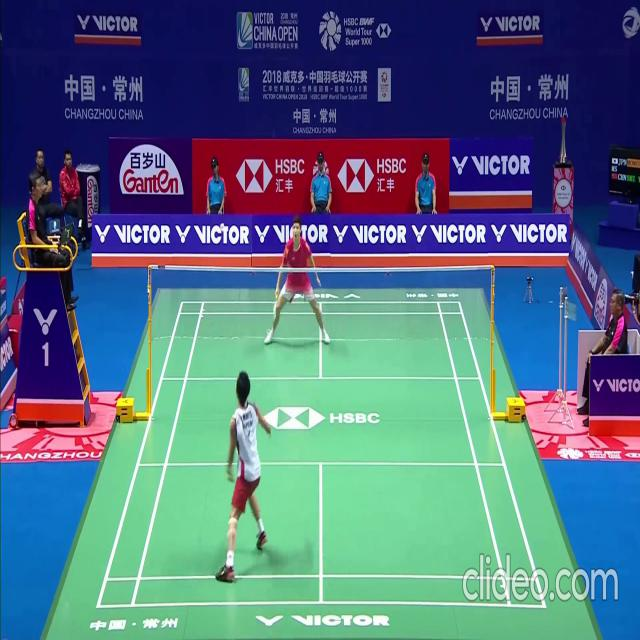Shuttlecock: (220, 224, 224, 231)
